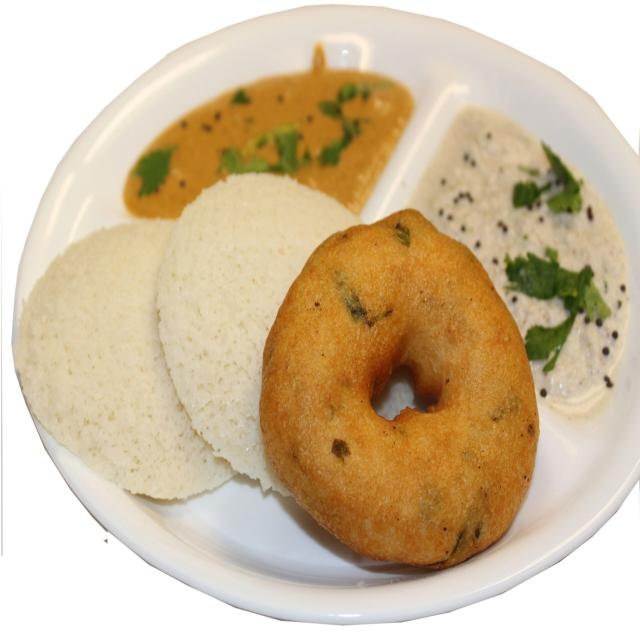IDLI: (11, 167, 361, 500)
SAMBAR: (125, 60, 414, 214)
VADA: (259, 206, 543, 567)
WHITE CHUTNEY: (413, 109, 627, 402)
